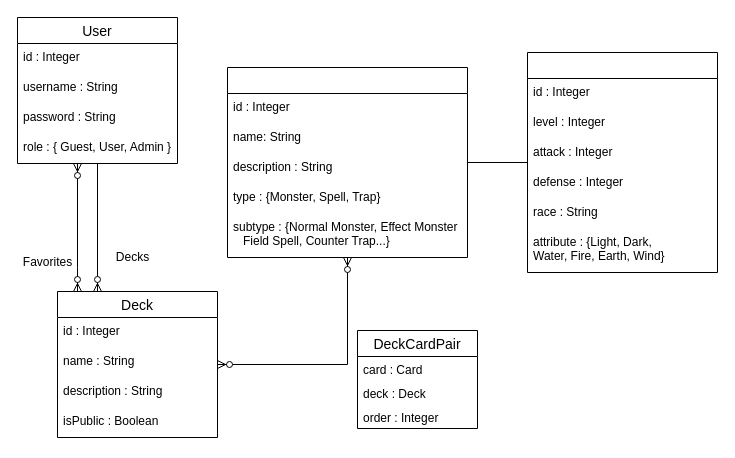
Some shapes in this 735 by 458 pixel diagram are drawn without their labels. The shapes that lost their labels are listed below. From the top down, each one's box as (x1, y1, x2, y2) in pixels, then its label:
(226, 66, 468, 258): Card
(526, 52, 718, 272): Monster
